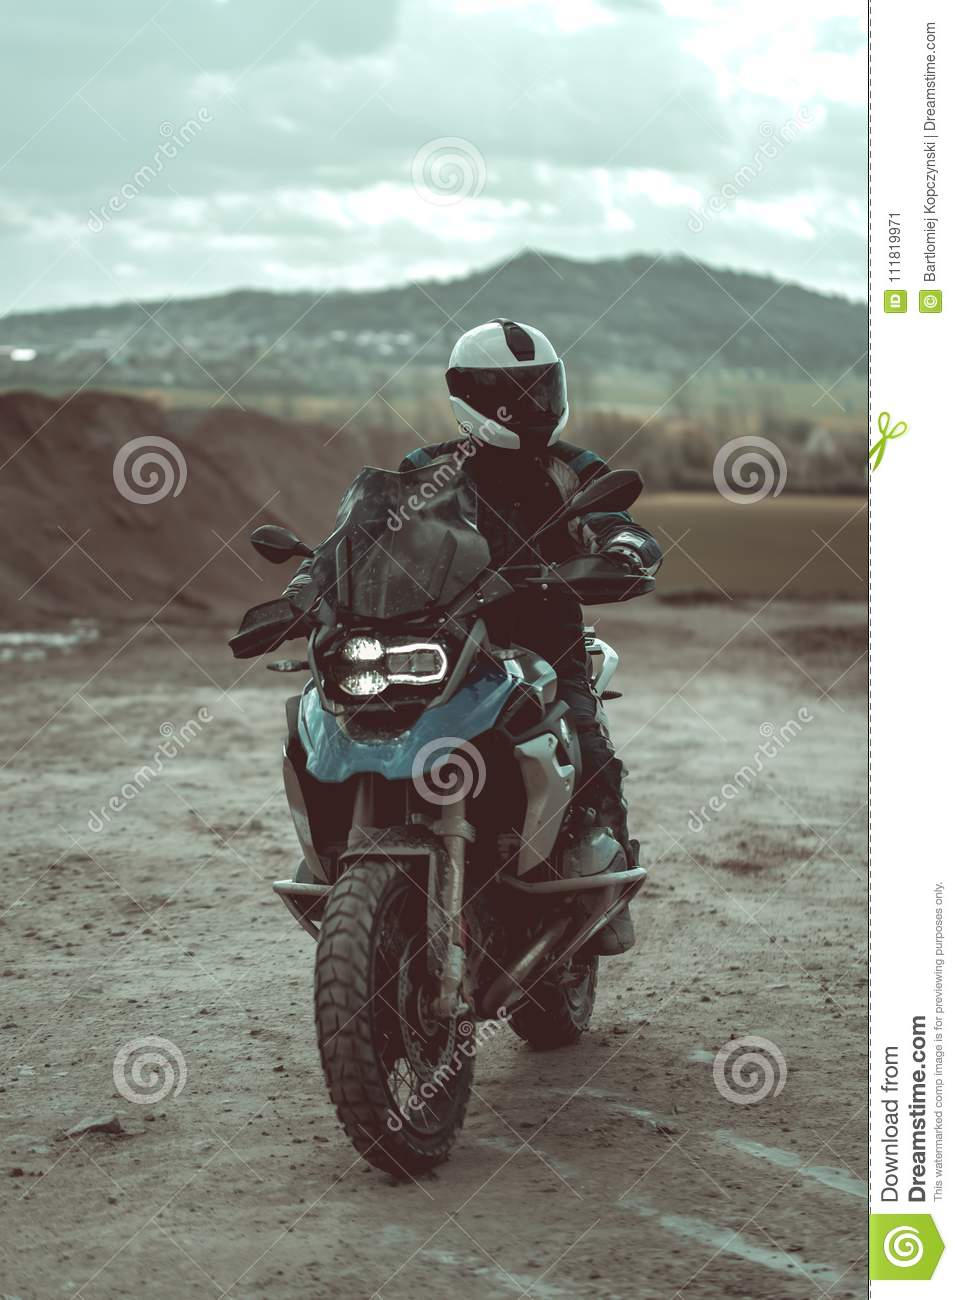helmet: (441, 319, 575, 453)
